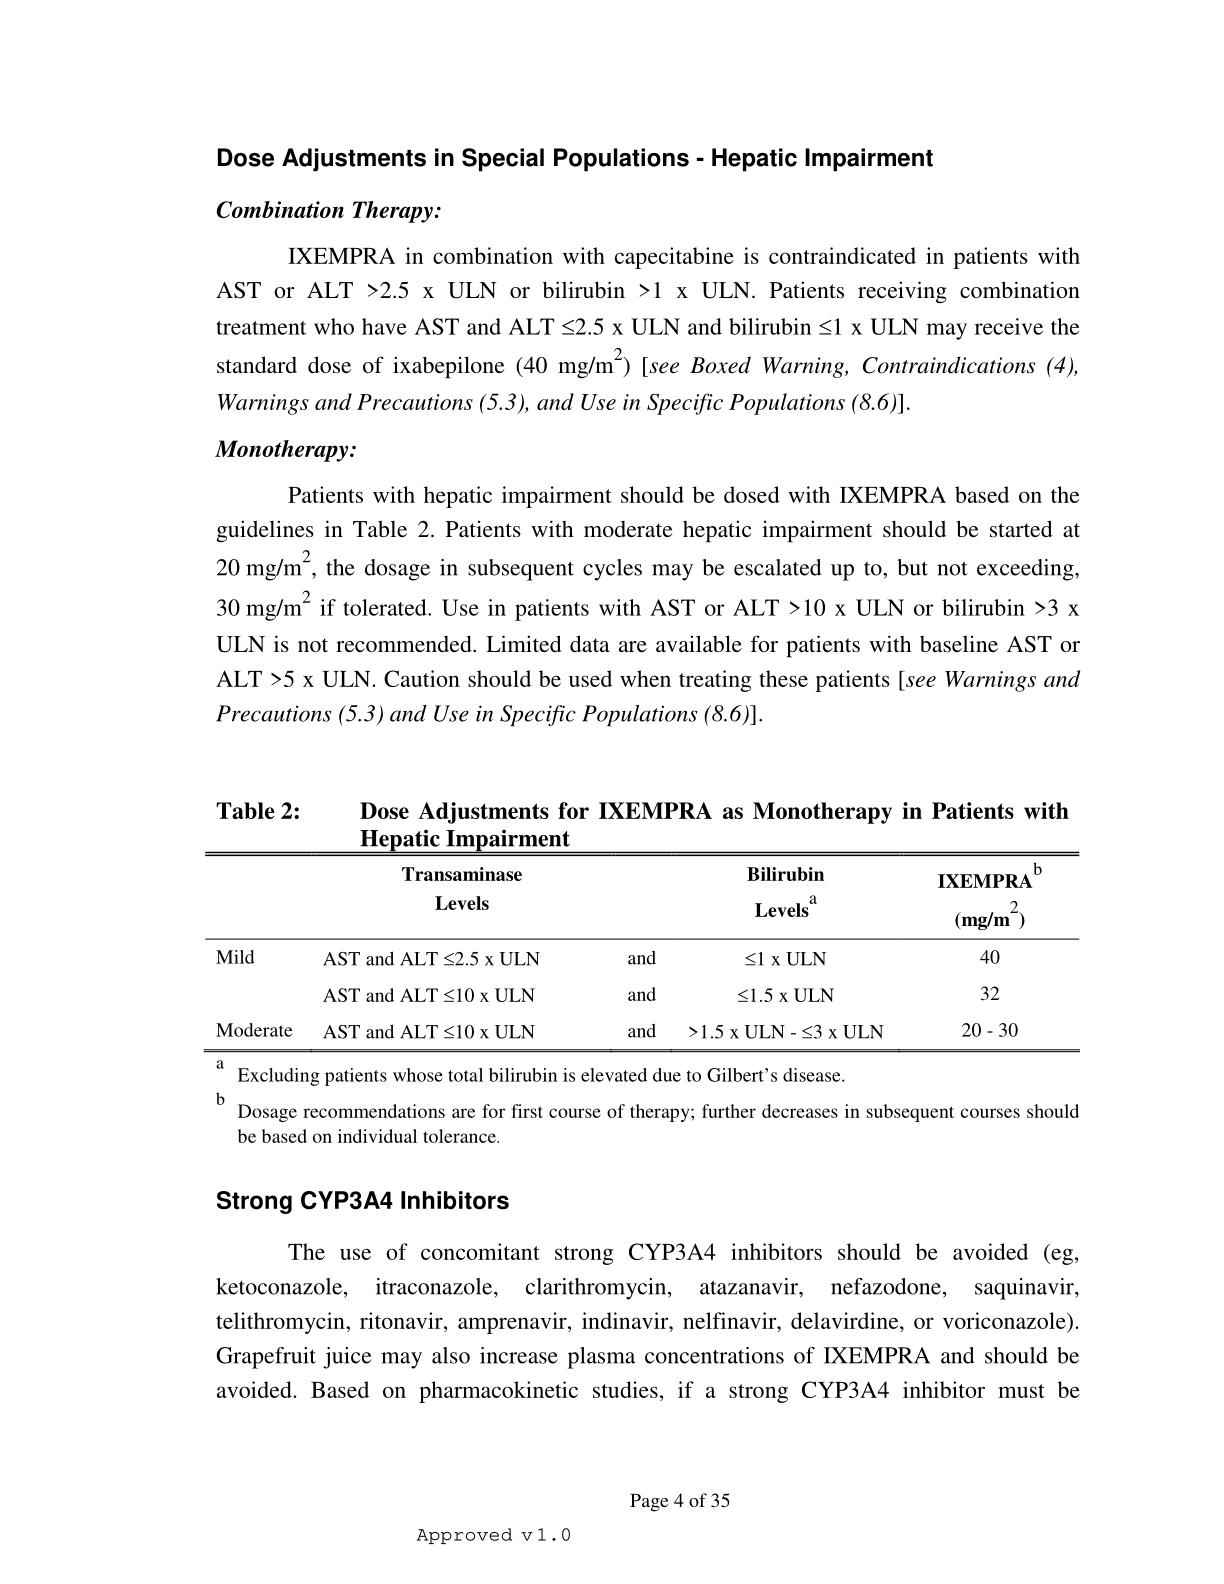partial_lined: (202, 850, 1084, 1054)
